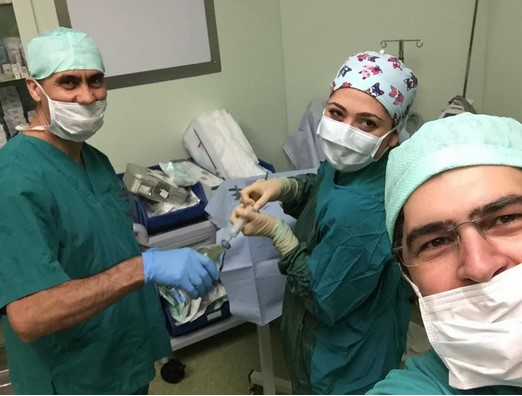face_with_mask: (386, 118, 521, 390), (312, 50, 418, 173), (23, 26, 109, 142)
